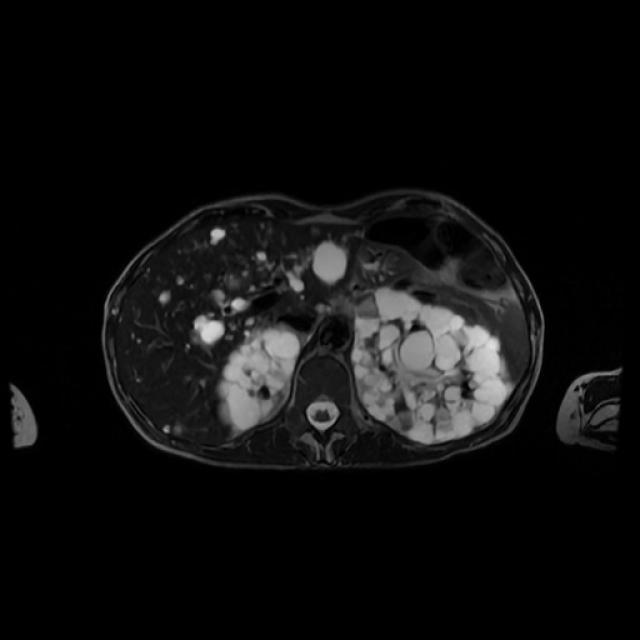sag: (217, 322, 306, 433)
sol: (350, 287, 513, 446)
